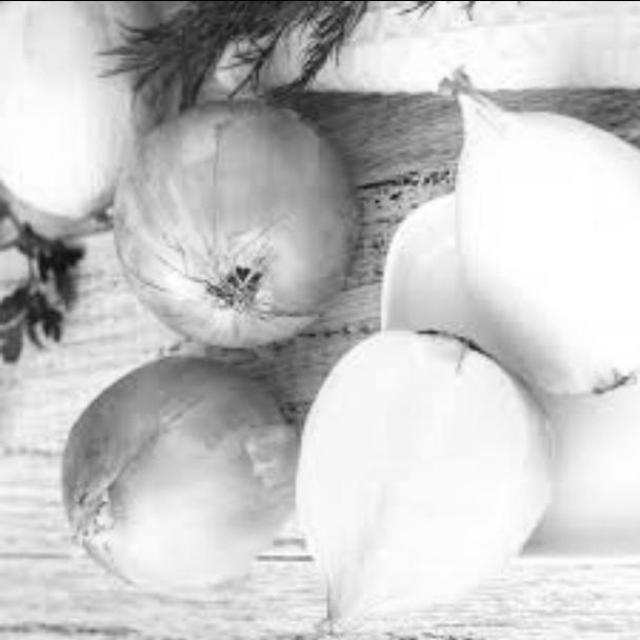cu hanh: (282, 314, 560, 634), (426, 40, 639, 427), (96, 76, 367, 352), (35, 325, 308, 597), (0, 3, 179, 260)
